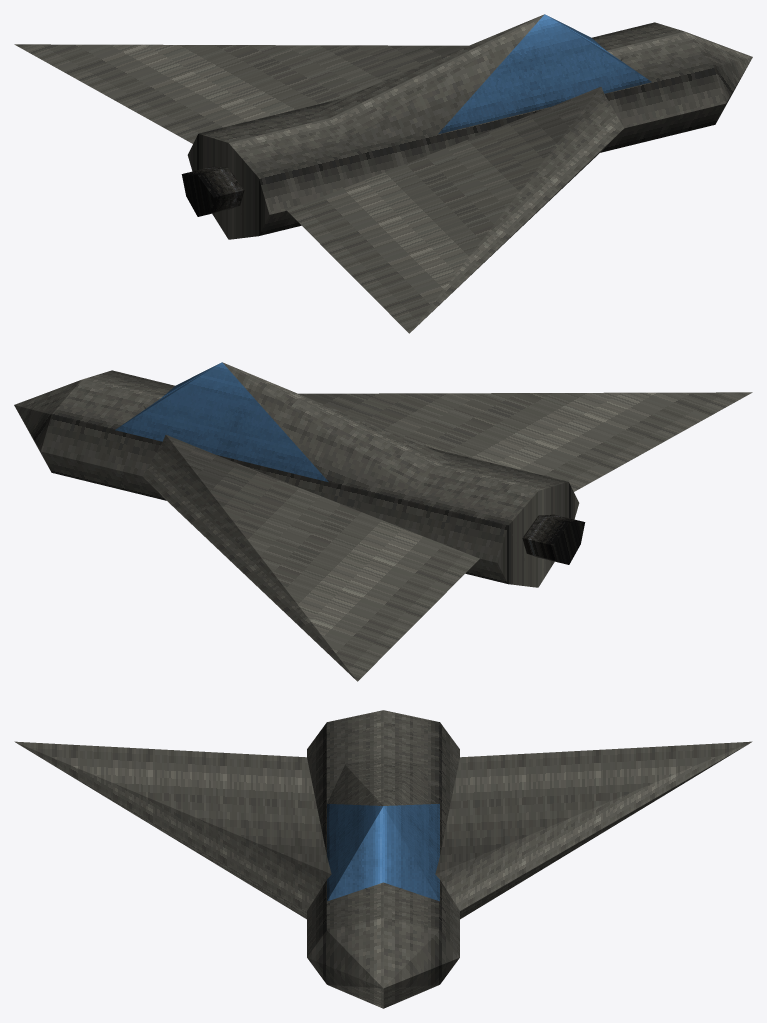
Rendered from spaceship1.obj.
The picture shows the model from 3 angles, top to bottom: view 1: azimuth 30°, elevation 25°; view 2: azimuth 150°, elevation 25°; view 3: azimuth 270°, elevation 25°; orthographic projection. The views are drawn at different scales.
Visible parts, largest first — view 1: spaceship1; view 2: spaceship1; view 3: spaceship1.
Boxes of the visible parts, bbox=[...] form: spaceship1: bbox=[14, 14, 752, 333]; spaceship1: bbox=[14, 362, 752, 681]; spaceship1: bbox=[14, 710, 752, 1008].
Bounding box in the file's own units: 0.9 × 0.23 × 1.11.
